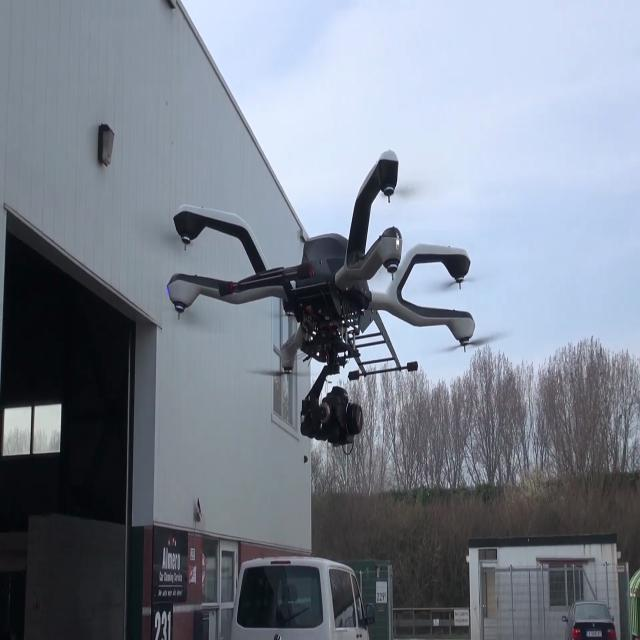drone: (142, 122, 506, 460)
